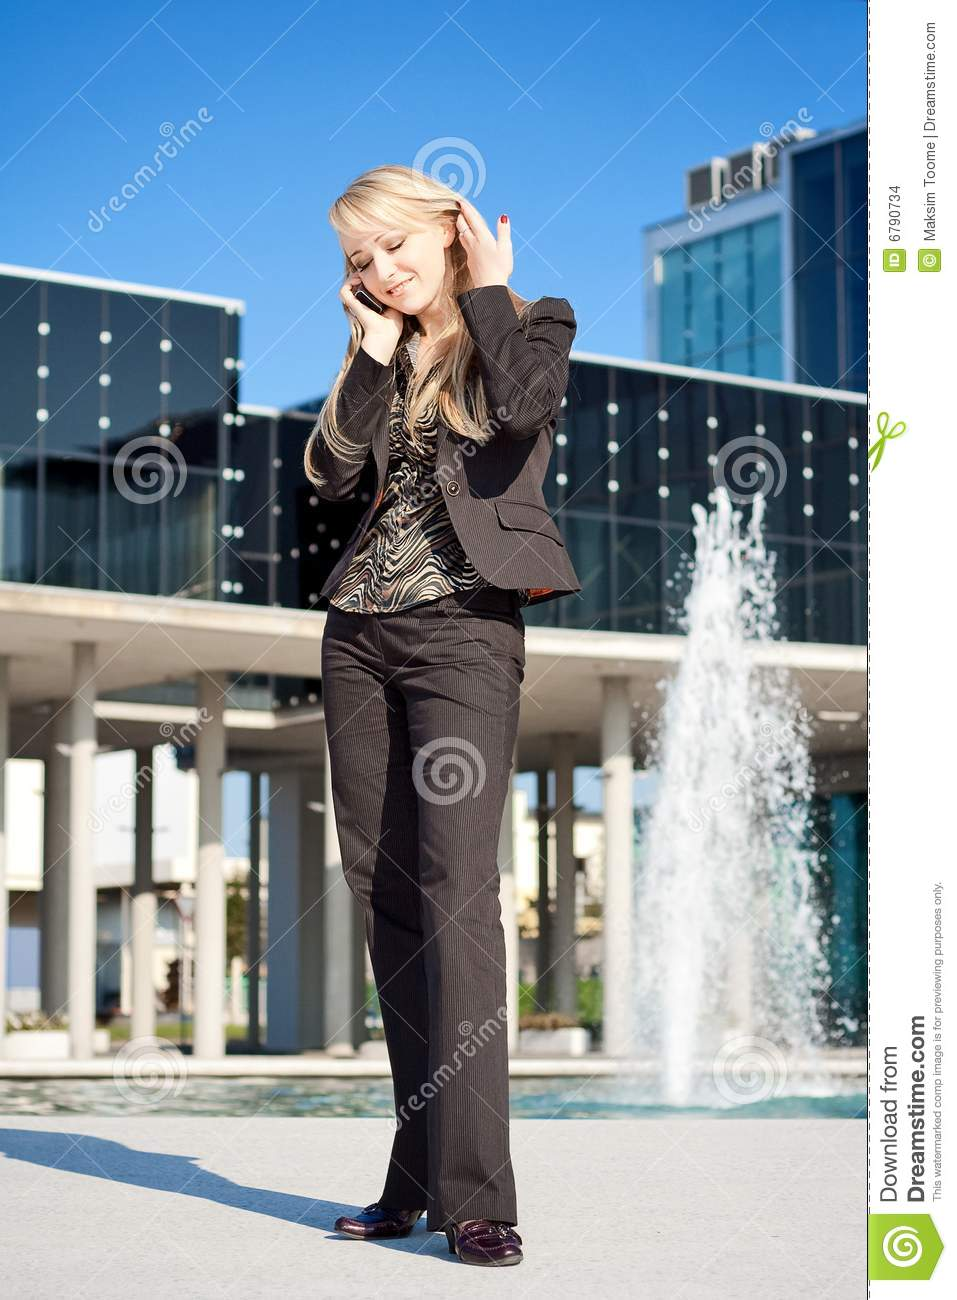talk: (340, 225, 427, 348)
